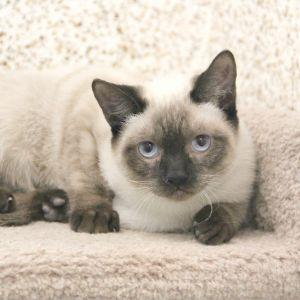siamese: (89, 41, 247, 210)
